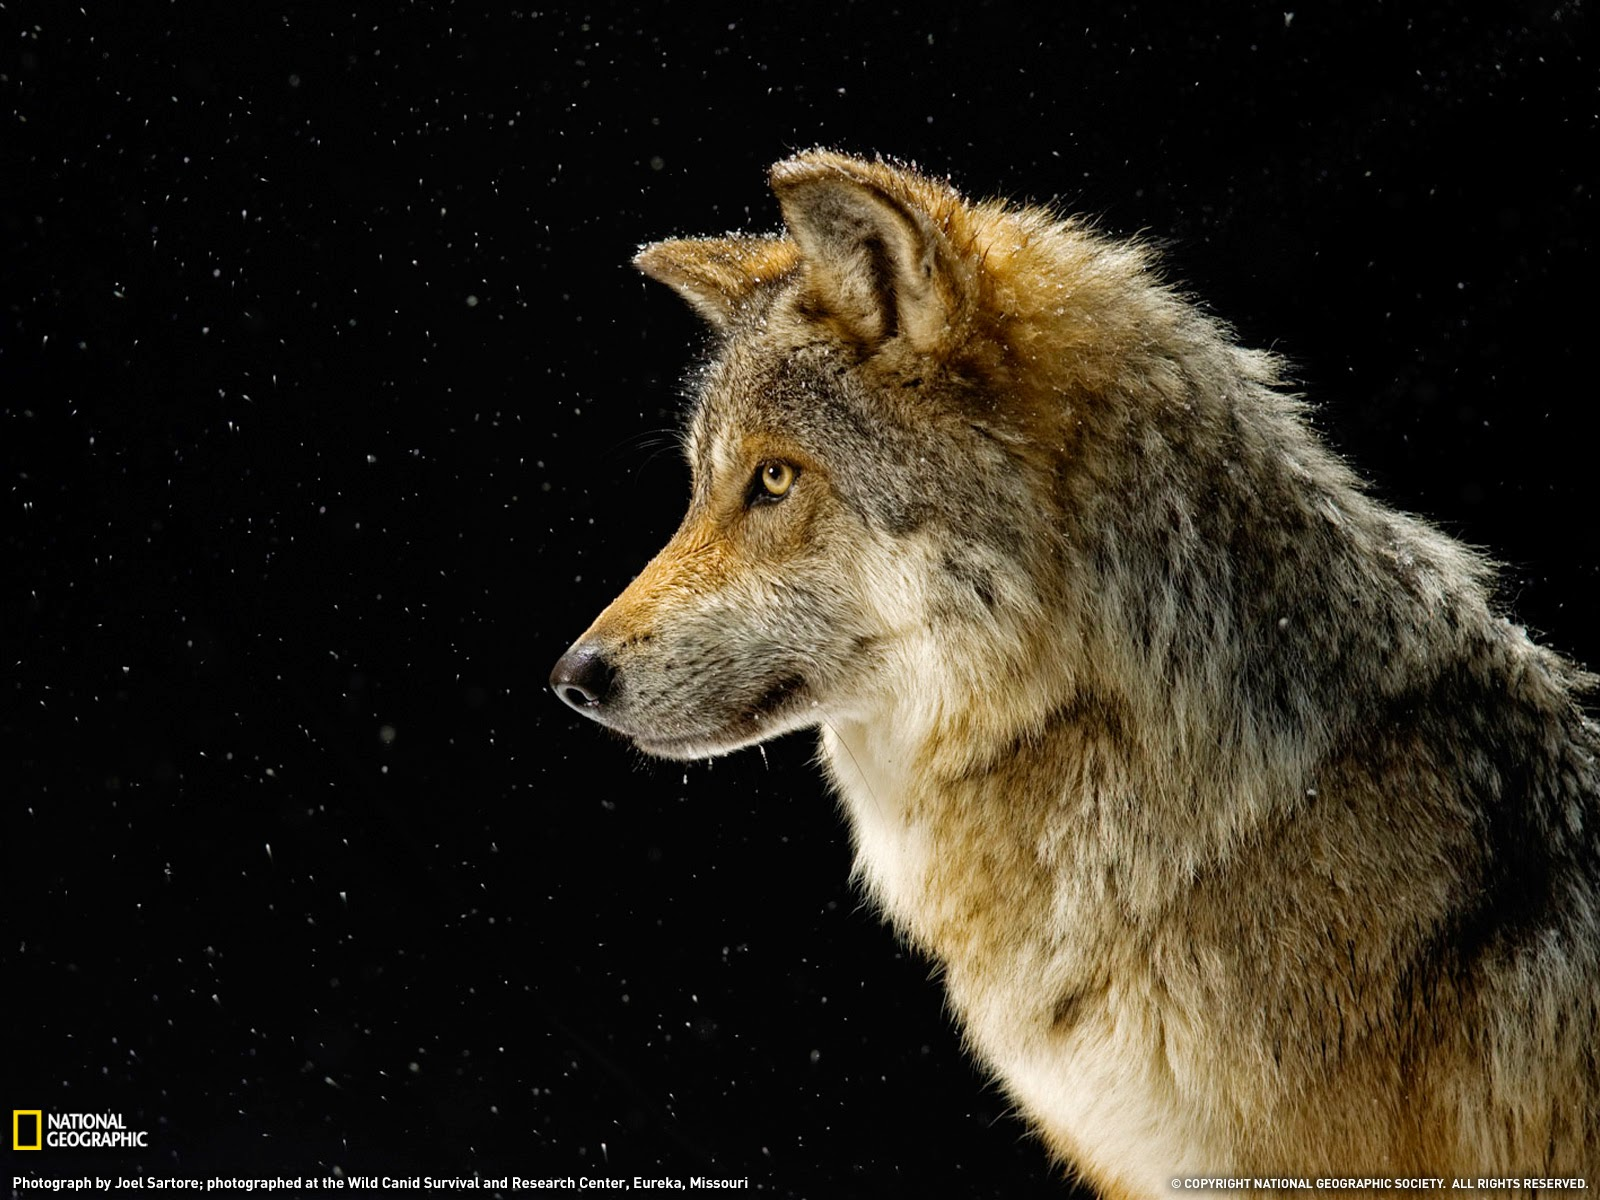Lobo: (513, 142, 1388, 923)
